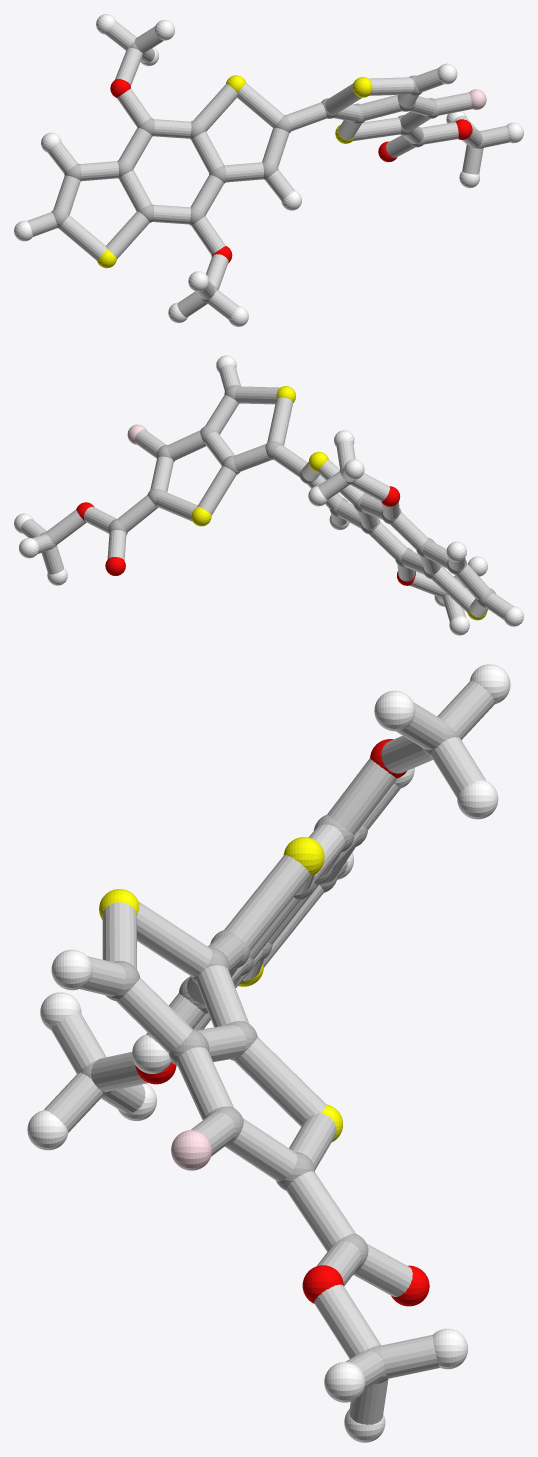
The model's file is Dimethoxy_Benzodithiophene_Phi_10_Theta_260_Methylcarbonyl_3_Fluoro_Thienothiophene.glb.
3 views of the same model, one above another, from view 1: azimuth 30°, elevation 25°; view 2: azimuth 150°, elevation 25°; view 3: azimuth 270°, elevation 25° (orthographic). The views are drawn at different scales.
Visible parts, largest first — view 1: grp15205, grp8689, grp1, grp7241, grp13395; view 2: grp15205, grp8689, grp1, grp7241, grp13395; view 3: grp15205, grp8689, grp1, grp13395, grp7241, grp14843.
Boxes of the visible parts, x1,y1,x2,y2 form: grp15205: [27, 21, 509, 319]; grp8689: [14, 14, 523, 326]; grp1: [51, 40, 483, 303]; grp7241: [97, 75, 372, 268]; grp13395: [110, 79, 472, 263]; grp15205: [21, 364, 513, 621]; grp8689: [14, 355, 523, 635]; grp1: [40, 385, 495, 607]; grp7241: [191, 386, 487, 620]; grp13395: [76, 486, 415, 585]; grp15205: [44, 680, 495, 1424]; grp8689: [27, 664, 510, 1442]; grp1: [79, 723, 459, 1383]; grp13395: [135, 739, 429, 1306]; grp7241: [99, 837, 343, 1142]; grp14843: [171, 1130, 212, 1170].
Bounding box in the file's own units: 16.99 × 7.67 × 7.05.
